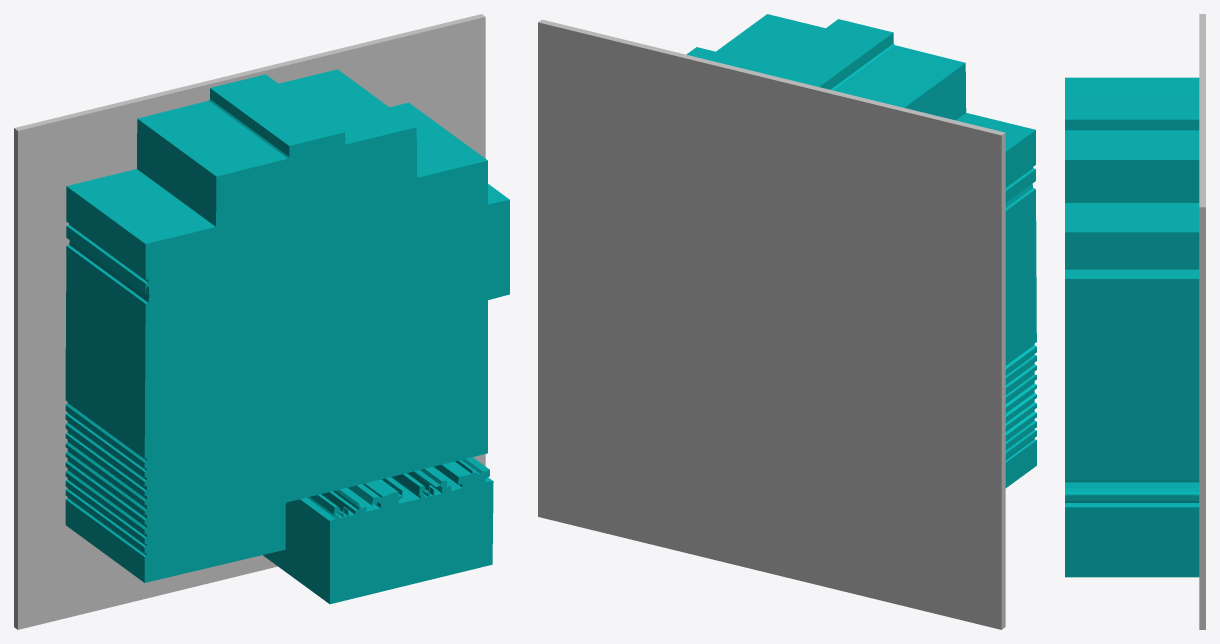
3 renders of one model, left to right at view 1: azimuth 30°, elevation 25°; view 2: azimuth 150°, elevation 25°; view 3: azimuth 270°, elevation 25°, orthographic. The views are drawn at different scales.
Parts seen in each view (by area): view 1: world; view 2: world; view 3: world.
Boxes of the visible parts, x1,y1,x2,y2 form: world: (14,14,509,629); world: (538,14,1036,629); world: (1065,14,1205,629).
Size of the model in its own units: 10.23 by 10.43 by 3.15.
